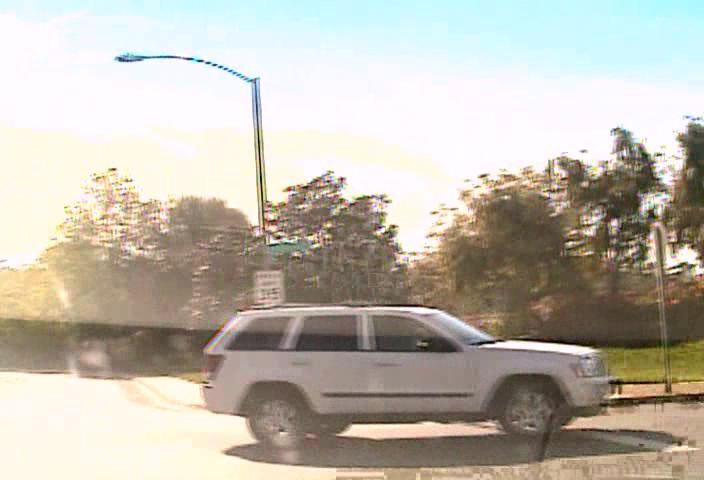speedLimit35: (252, 268, 284, 306)
